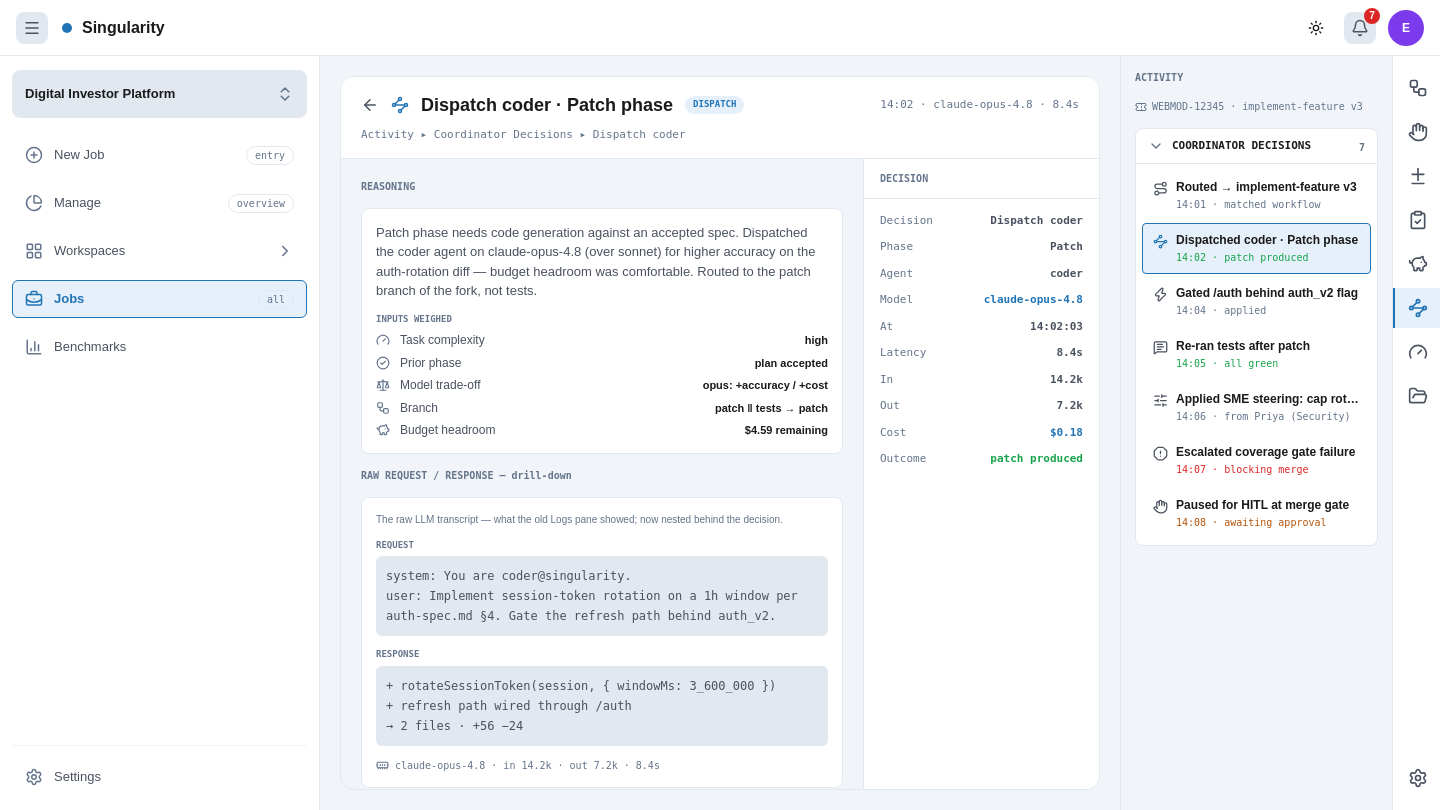
Test: Activity section › selecting another decision swaps to its minimal detail
Expected: the heading "Dispatch coder · Patch phase" is shown, [421,91,673,119]
Click the button "Re-ran tests after patch" at (1256, 354), box [1142,329,1371,380]
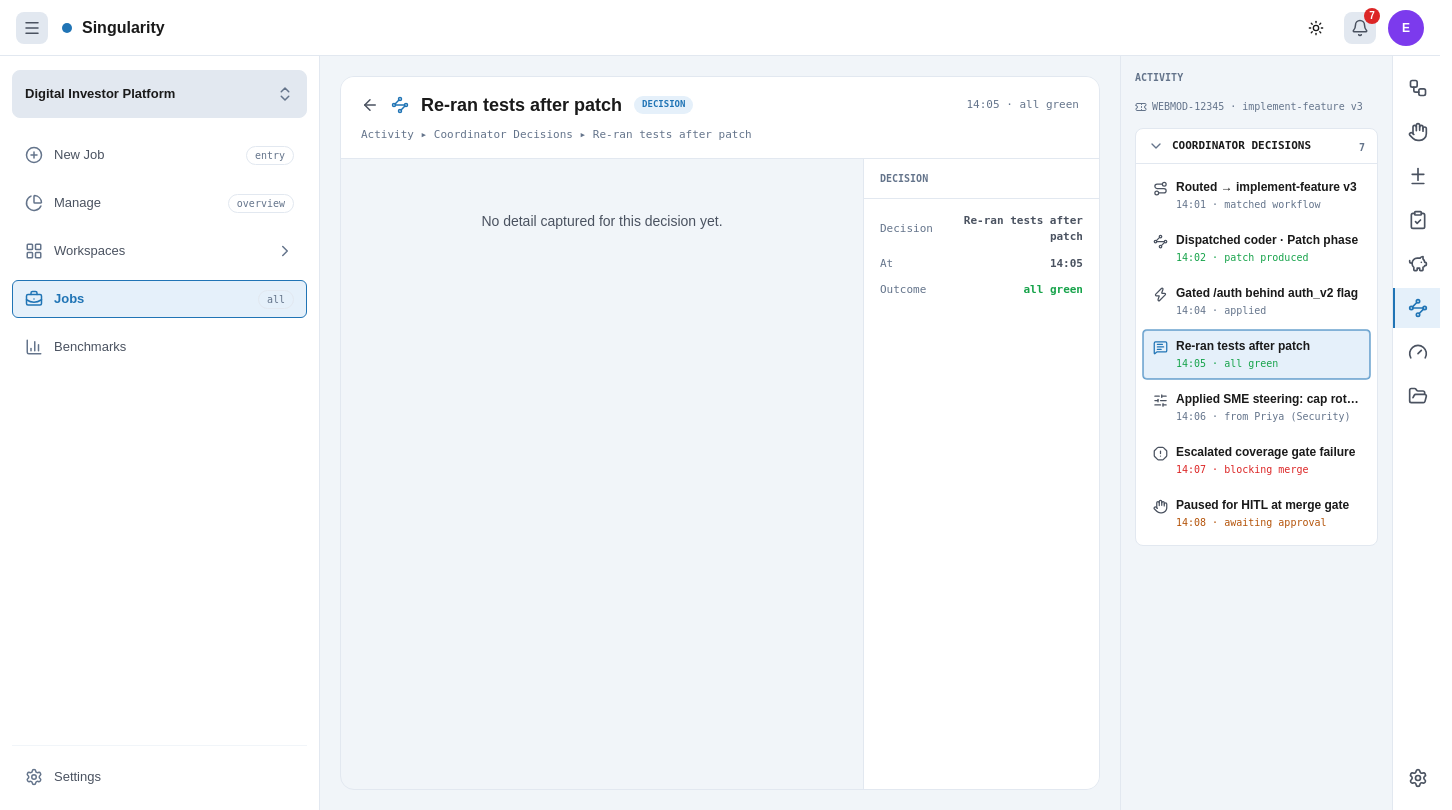
Expected: the heading "Re-ran tests after patch" is shown, [421,91,622,119]
Expected: the text "No detail captured for this decision yet." is shown, [481,212,723,228]
